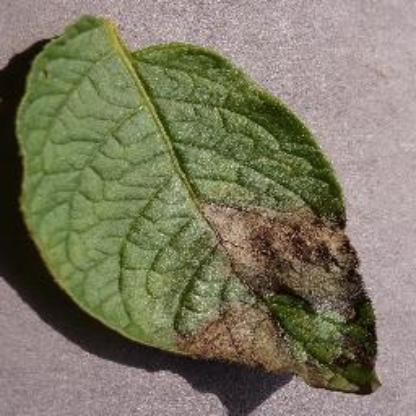Late-Blight: (15, 8, 393, 400)
